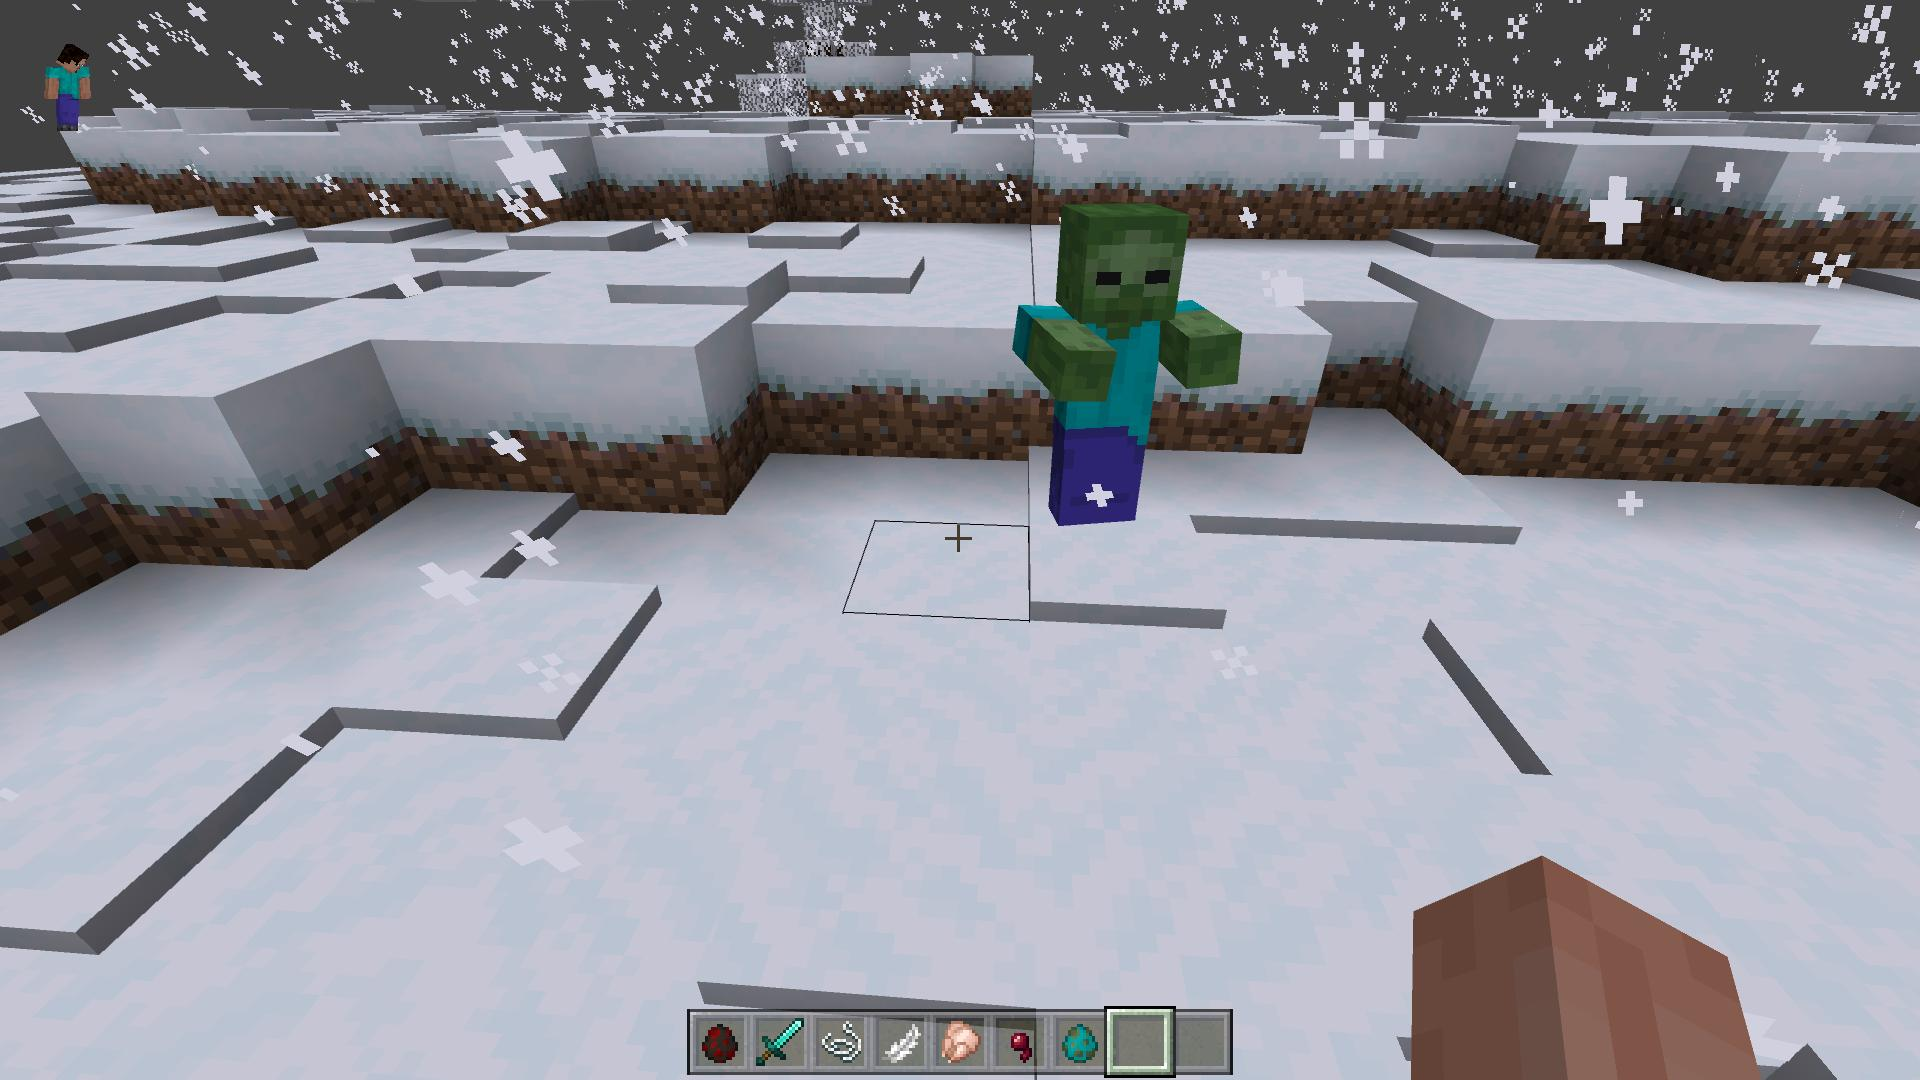zombie: (1013, 207, 1242, 531)
